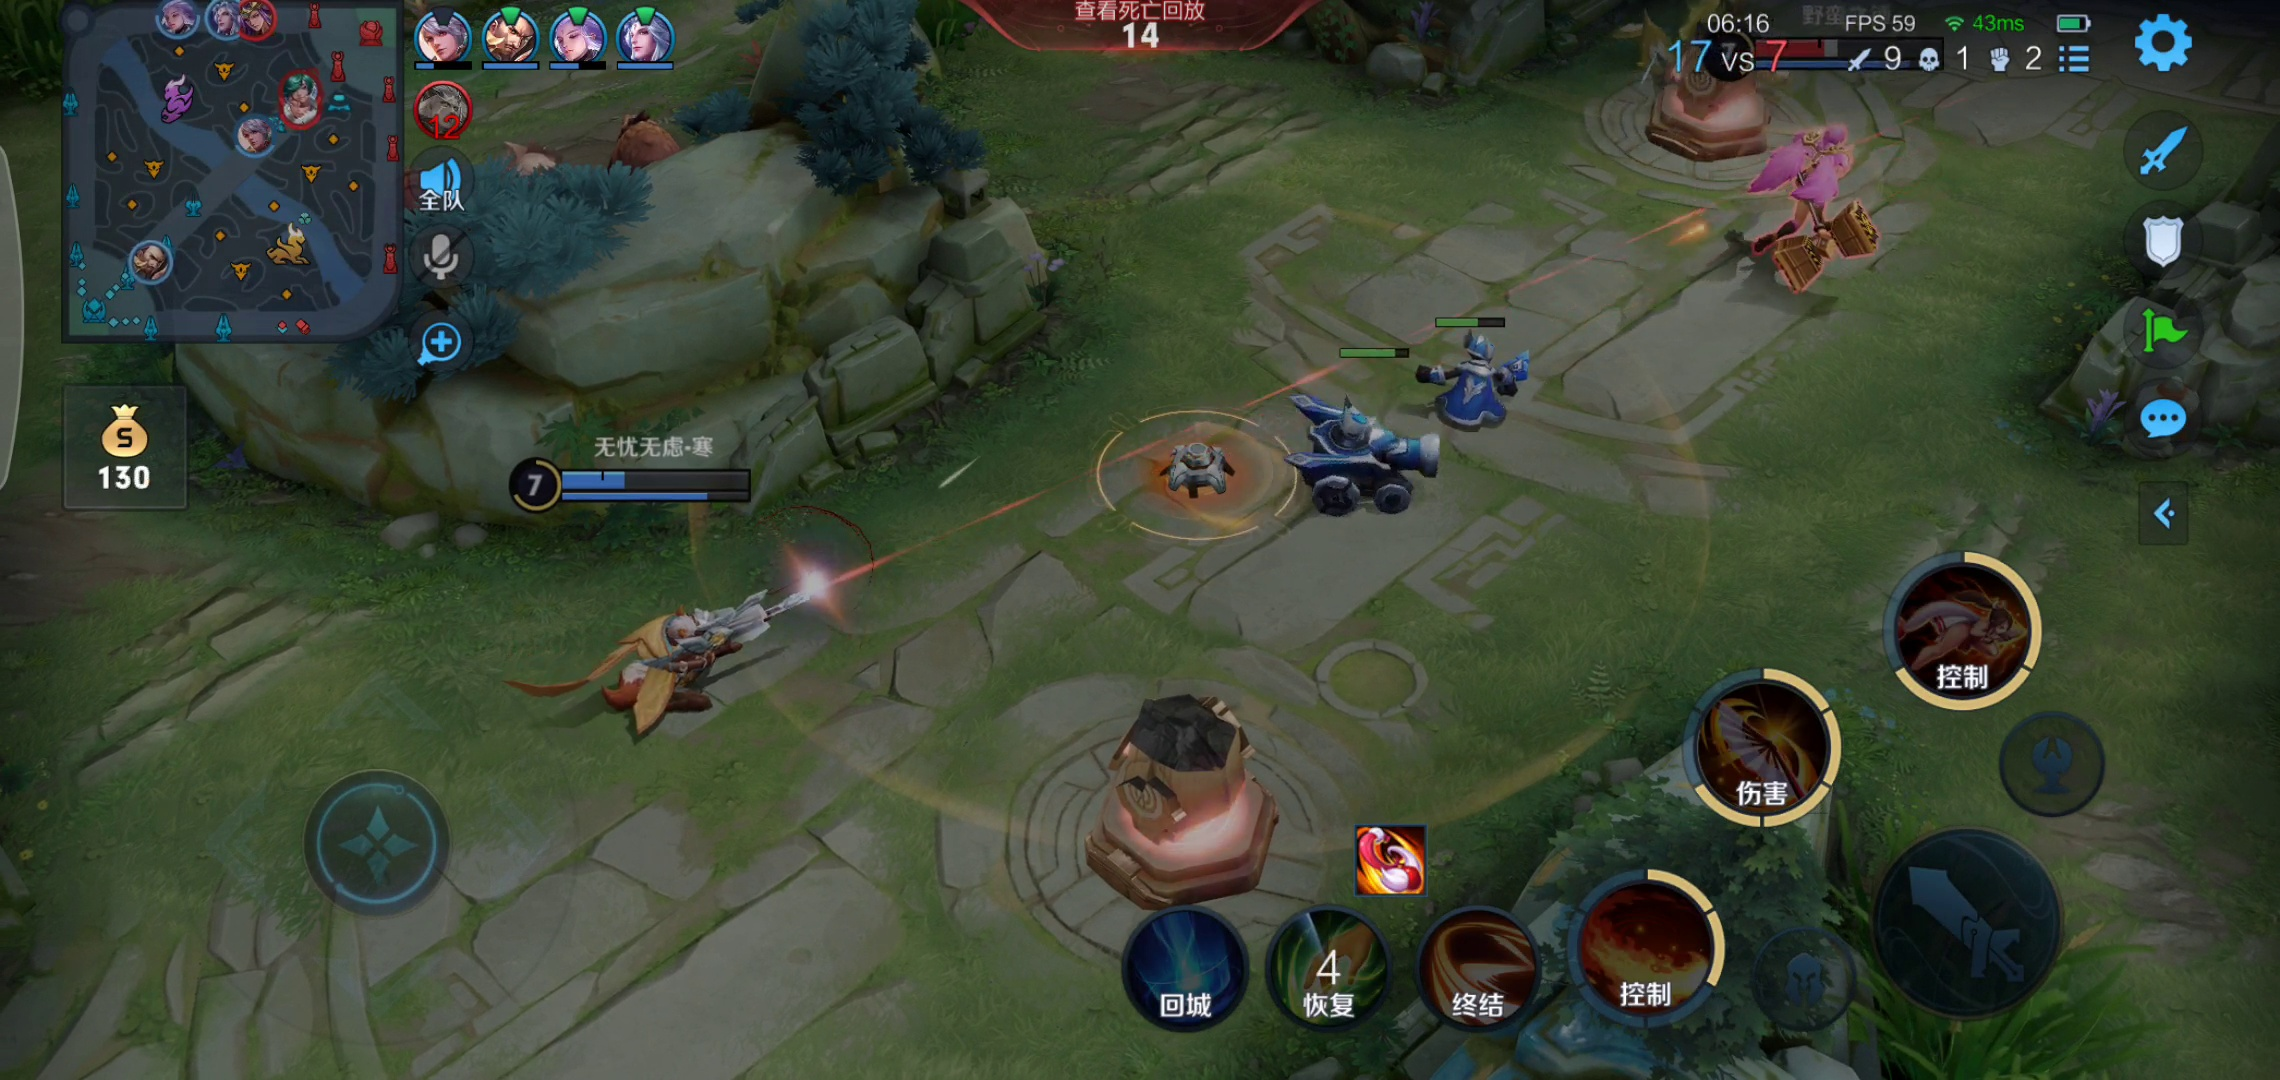hero: (528, 561, 778, 751), (1719, 137, 1895, 294)
soldier: (1291, 390, 1441, 531), (1413, 327, 1536, 433)
tower: (1083, 685, 1300, 903), (1629, 3, 1789, 153)
wild_monster: (491, 97, 694, 196)
